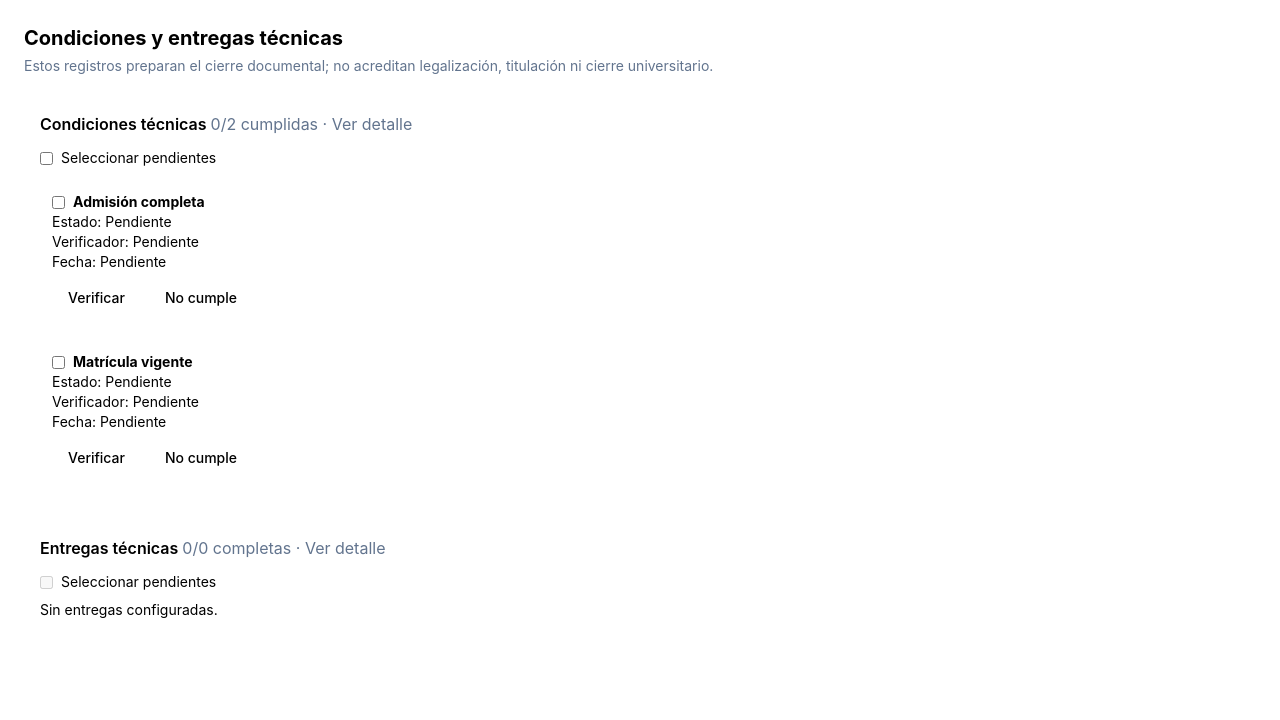
Scenario: ClosureRequirements › bloquea envíos duplicados mientras la petición está pendiente
Expected: the text "Admisión completa" is shown, [73,192,205,212]
Click the button "Verificar" below "Admisión completa": click(96, 298) [52,280,141,316]
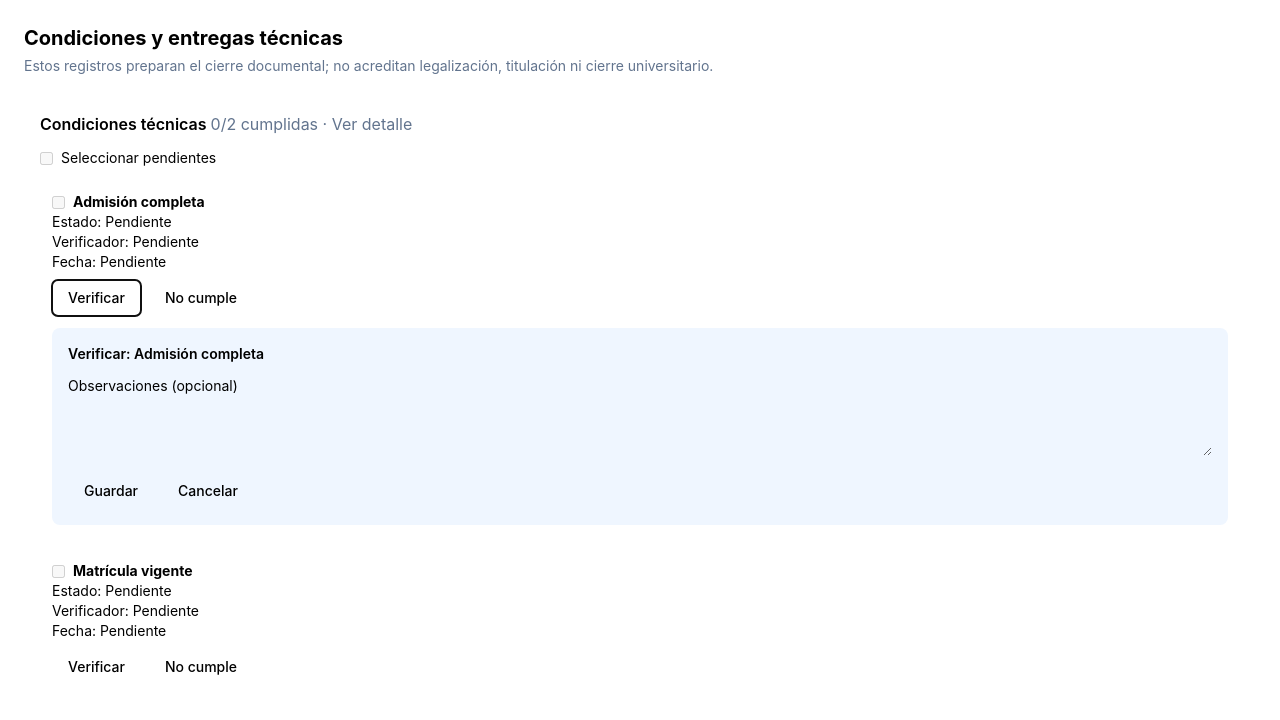
Submit the form, box [52,328,1228,525]
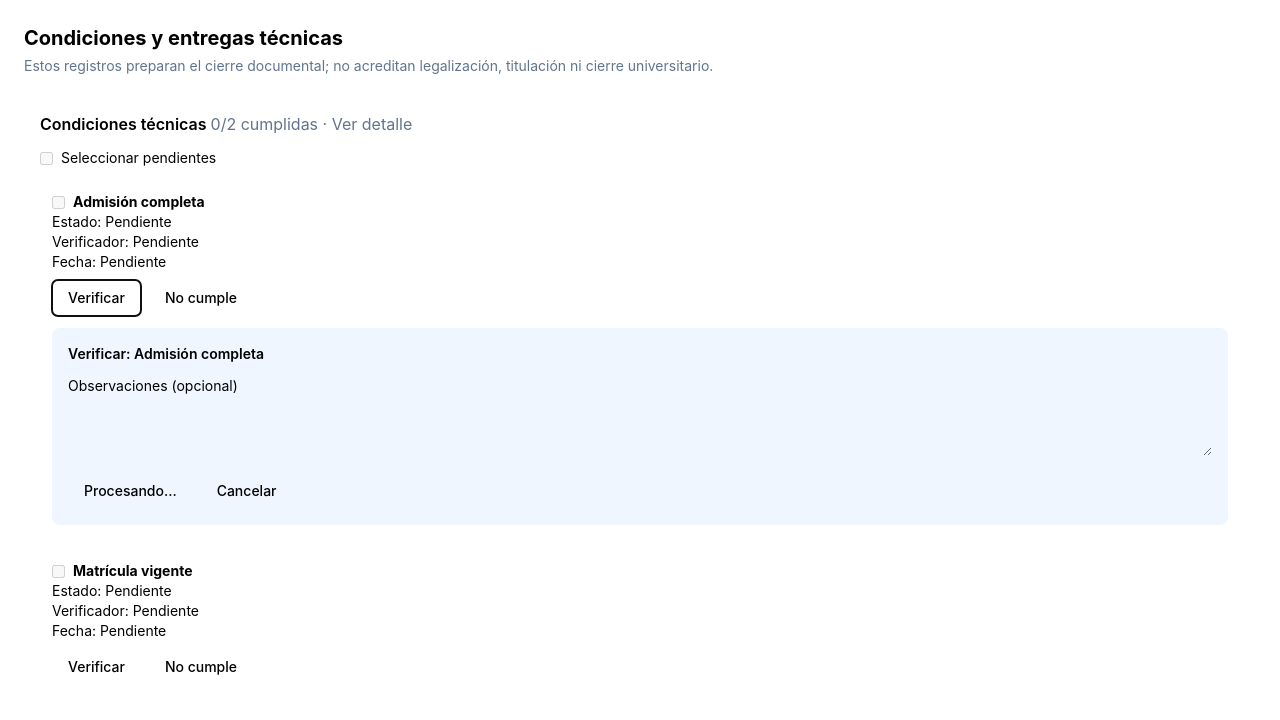
Submit the form, box [52,328,1228,525]
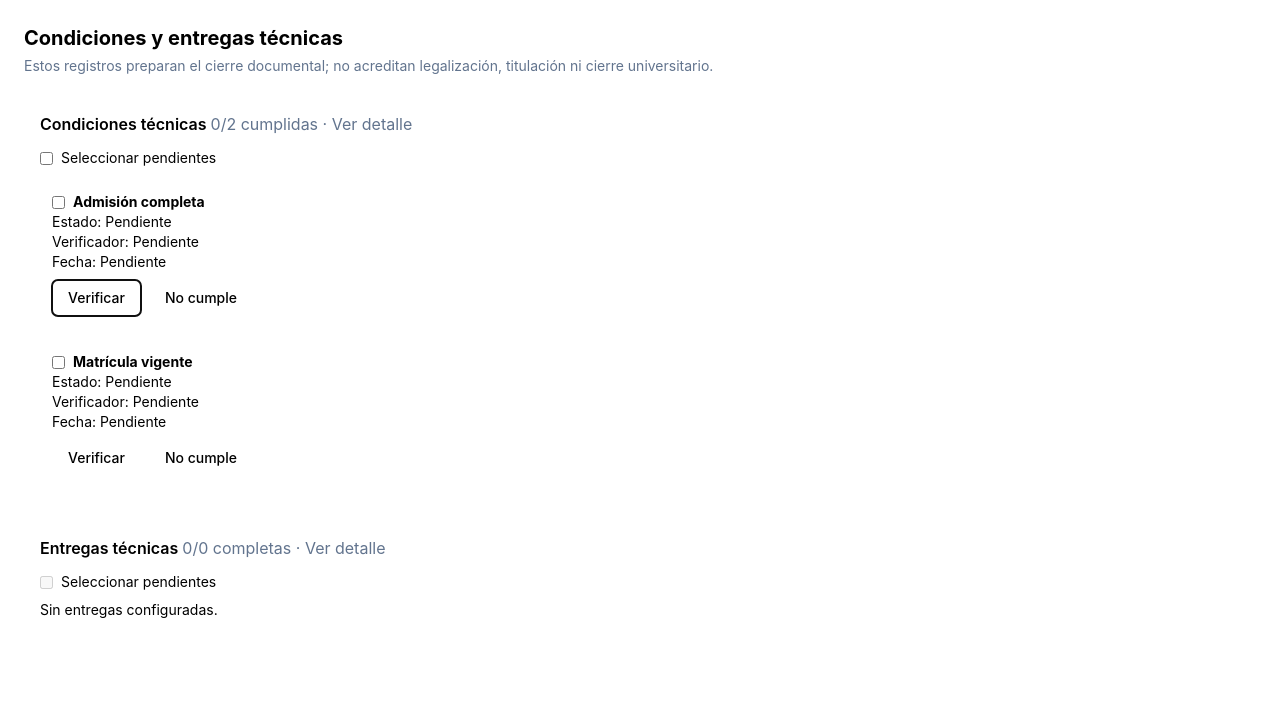
Result: the form is gone
